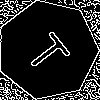T: (22, 25, 79, 77)
